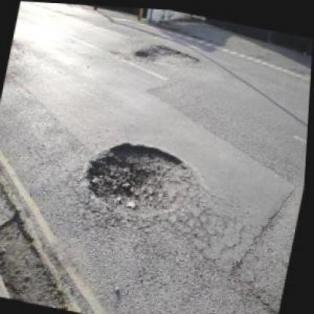Hueco: (82, 132, 205, 224), (0, 204, 93, 310), (132, 35, 206, 74)
